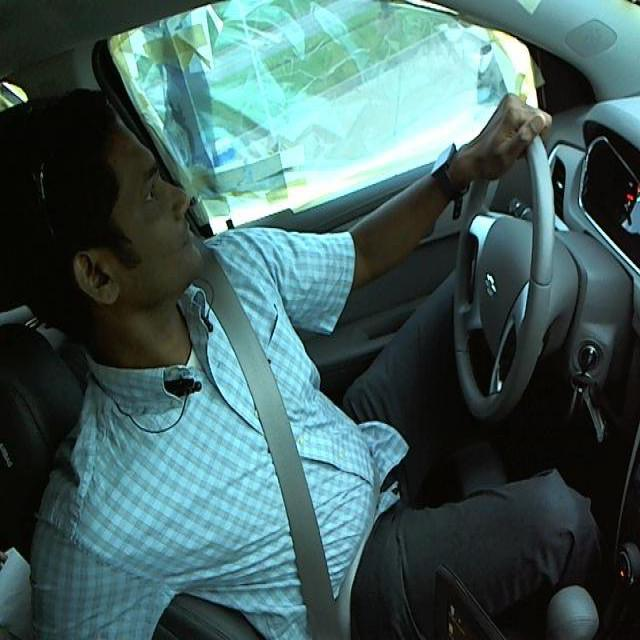seatbelt: (190, 291, 372, 618)
